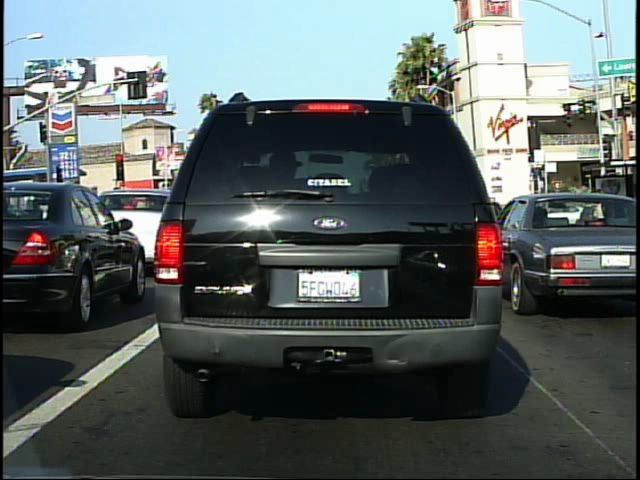person: (590, 183, 614, 251)
